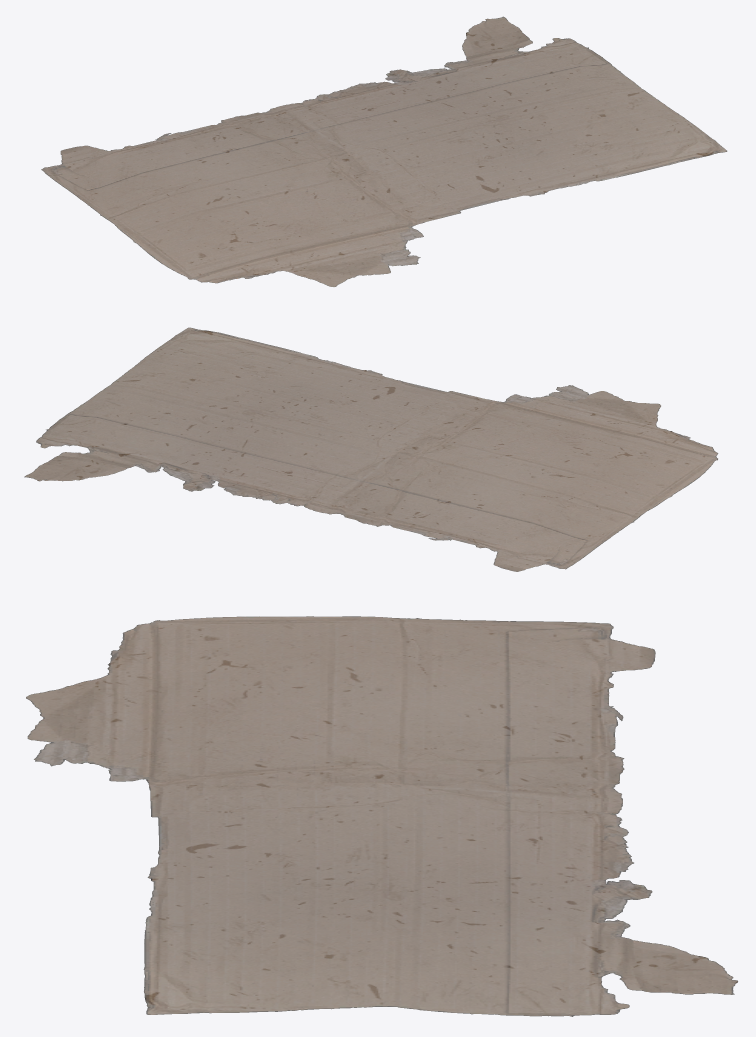
The model's file is SM_Cardboard_Flat04.glb.
The picture shows the model from 3 angles, top to bottom: view 1: azimuth 30°, elevation 25°; view 2: azimuth 150°, elevation 25°; view 3: azimuth 270°, elevation 25°; orthographic projection. The views are drawn at different scales.
Visible parts, largest first — view 1: SM_Cardboard_Flat04; view 2: SM_Cardboard_Flat04; view 3: SM_Cardboard_Flat04.
Boxes of the visible parts, bbox=[...] form: SM_Cardboard_Flat04: bbox=[41, 16, 727, 286]; SM_Cardboard_Flat04: bbox=[24, 327, 718, 571]; SM_Cardboard_Flat04: bbox=[26, 616, 737, 1016].
Bounding box in the file's own units: 0.544 × 0.00978 × 0.4113.
Materials: 1 (1 with a texture image).
